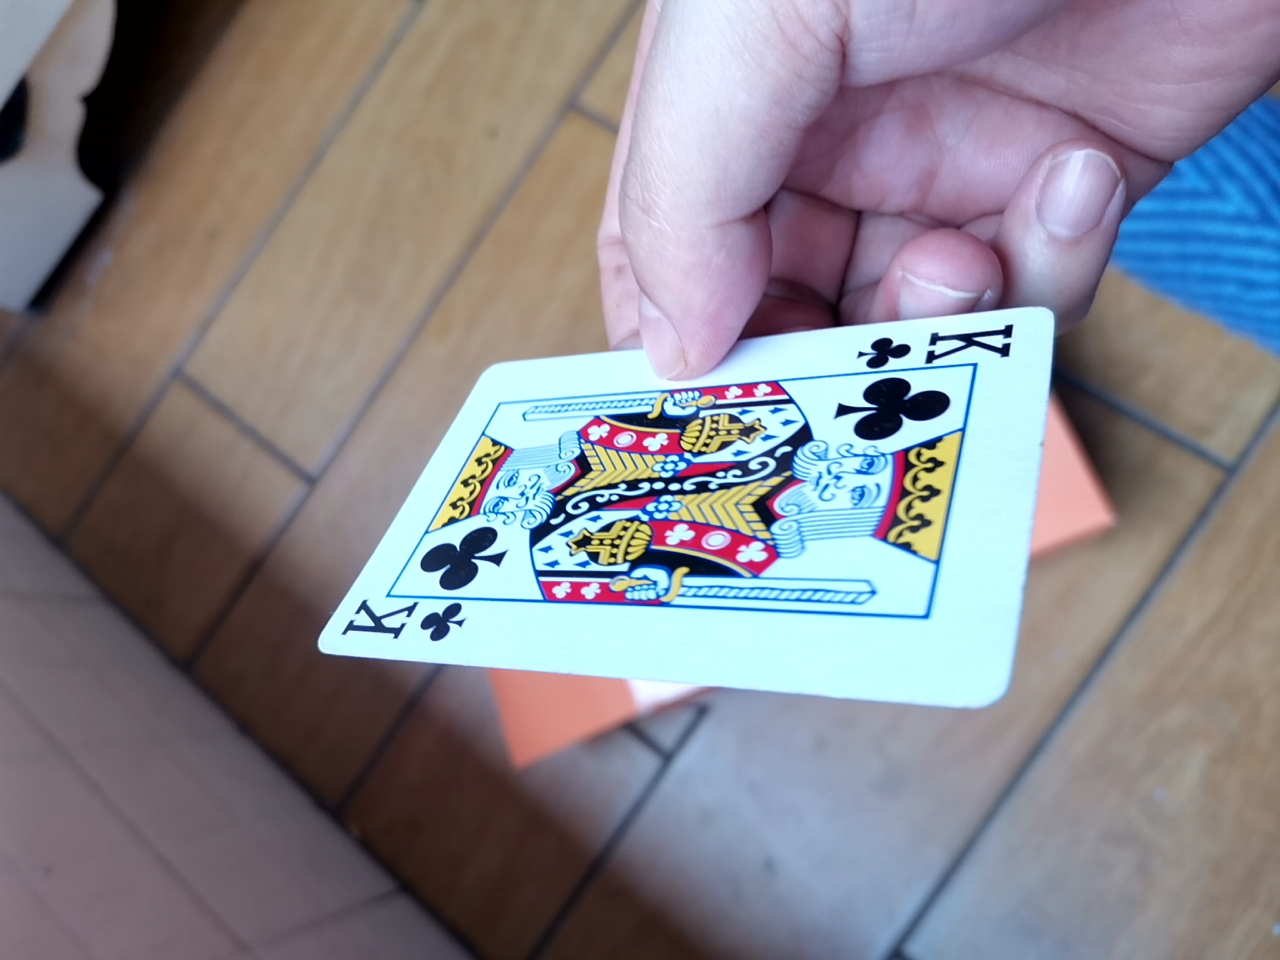mh k: (285, 294, 1050, 712)
